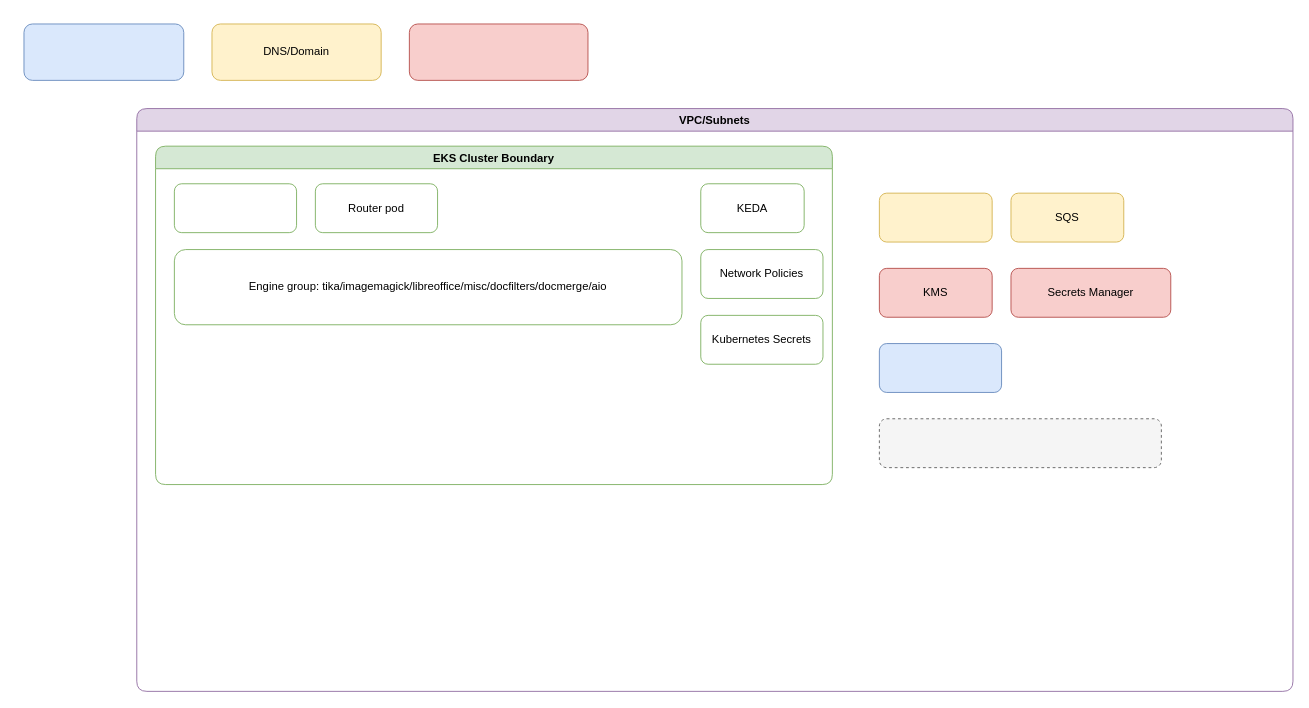
The diagram is 1309 pixels wide and 708 high, and some of its shapes have lost their labels. The centre of each missing label's shape, as x and y in pixels:
"Clients/Upstream" belongs at [103,51].
"Datadog" belongs at [940,367].
"Ingress ALB/WAF" belongs at [498,51].
"Not found in IaC: explicit API gateway" belongs at [1019,443].
"REST pod" belongs at [235,208].
"SNS" belongs at [935,217].
